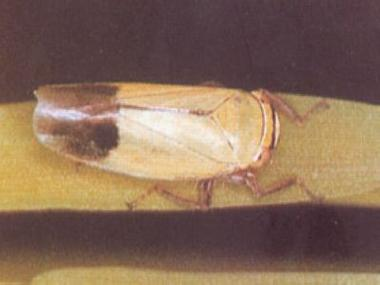Cicadellidae: (33, 83, 293, 202)
